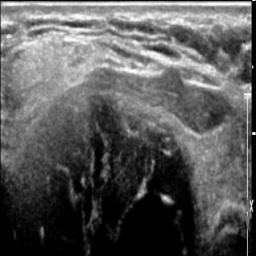mass: (10, 75, 220, 253)
